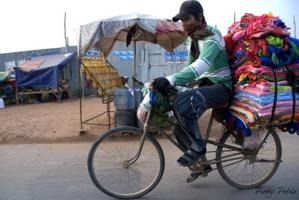person: (149, 1, 233, 184)
